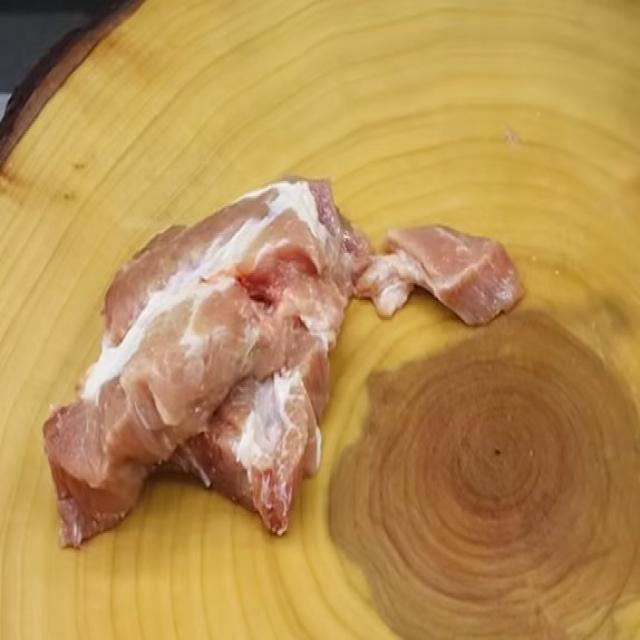pork: (37, 192, 509, 556)
